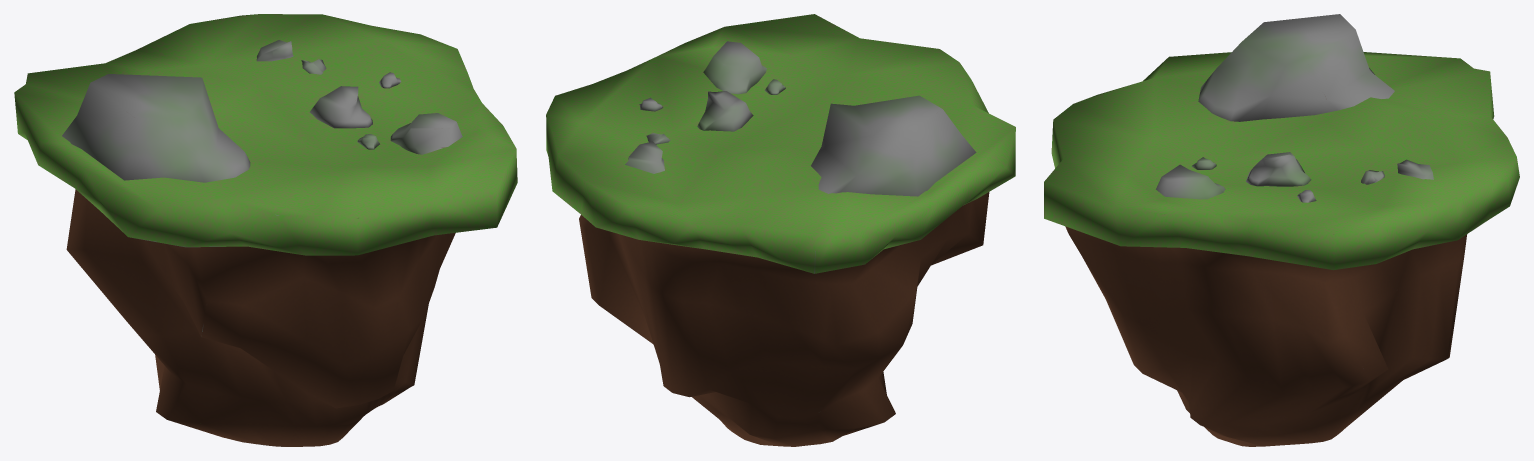
File: island1.fbx
3 views of the same model, side by side, from view 1: azimuth 30°, elevation 25°; view 2: azimuth 150°, elevation 25°; view 3: azimuth 270°, elevation 25° (orthographic). The views are drawn at different scales.
Parts seen in each view (by area): view 1: Island1; view 2: Island1; view 3: Island1.
Part boxes in pixels (x1=…): Island1: x1=14, y1=14, x2=517, y2=446; Island1: x1=546, y1=14, x2=1015, y2=446; Island1: x1=1044, y1=14, x2=1519, y2=446.
Size of the model in its own units: 247 by 204 by 260.
Materials: 1 (1 with a texture image).
